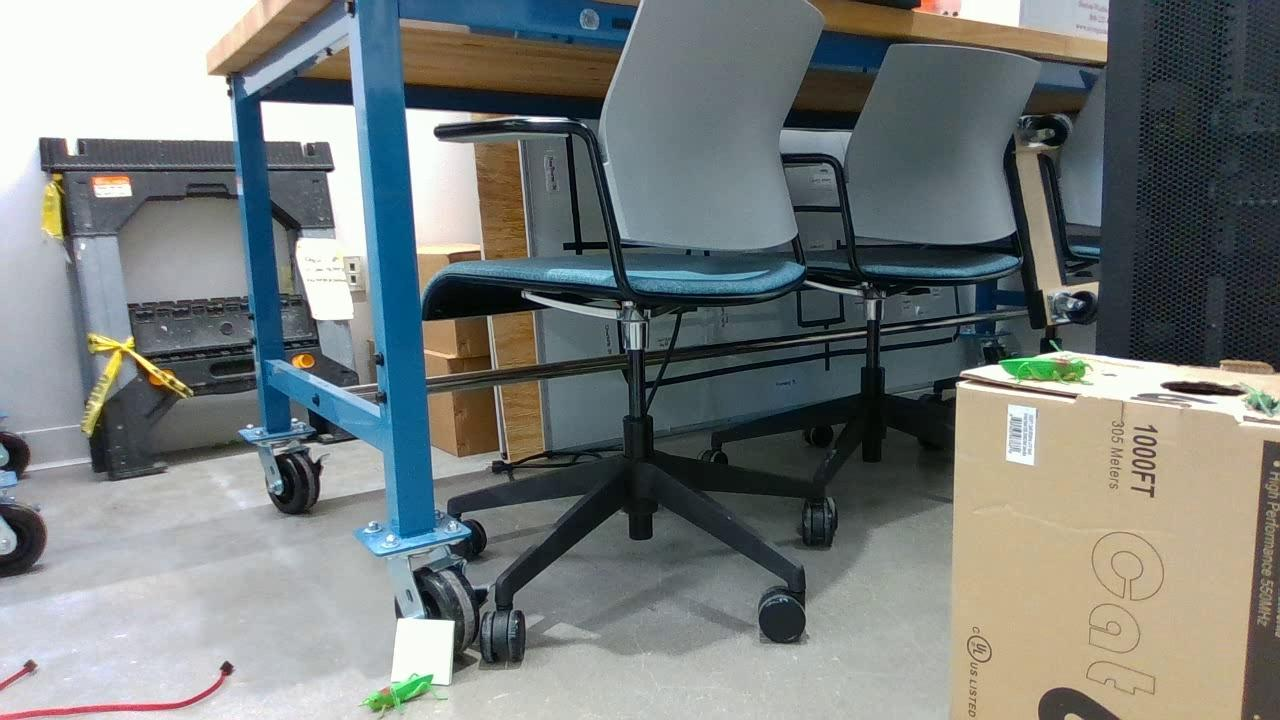grasshopper: (367, 674, 443, 717), (1000, 359, 1086, 386)
